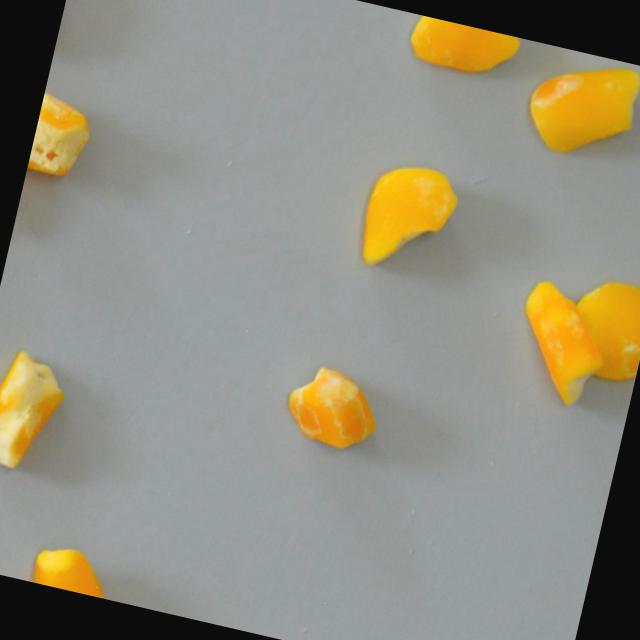dañado: (26, 89, 100, 185)
estandar: (402, 13, 521, 87), (23, 536, 134, 603)
pelicula: (339, 153, 472, 280), (507, 270, 623, 411), (515, 46, 640, 171), (278, 359, 387, 456), (565, 271, 640, 386)
punto_negro: (0, 340, 78, 480)
